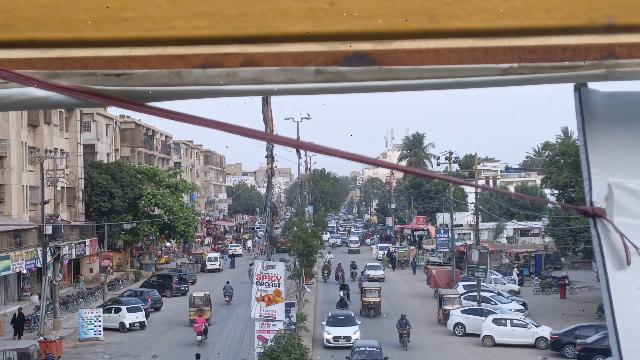Bike: (396, 327, 414, 353), (194, 330, 208, 348), (223, 292, 233, 307), (342, 289, 351, 302)
Car: (479, 312, 553, 351), (548, 317, 606, 359), (444, 303, 503, 339), (319, 307, 364, 349), (101, 304, 148, 334), (139, 271, 190, 297), (572, 326, 609, 360), (122, 285, 164, 311), (345, 337, 391, 360)
Person: (9, 301, 26, 341), (395, 310, 412, 329), (193, 310, 208, 326), (223, 280, 233, 293), (340, 279, 351, 290)
Rickshaw: (433, 285, 462, 326), (358, 280, 384, 319), (187, 290, 215, 326)
